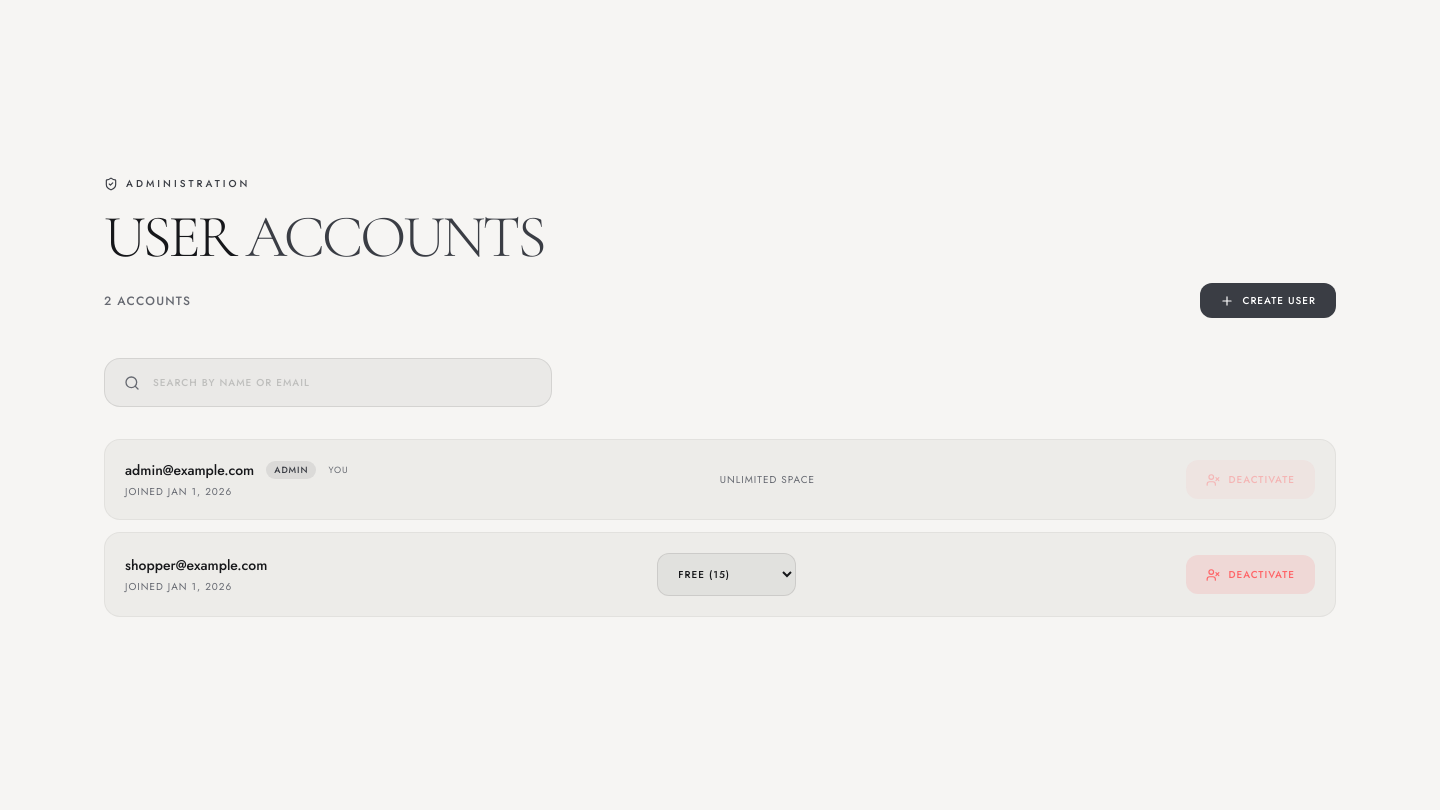
Test: Admin: plans › a failed change is reported and the old plan stays
Select "Premium (300)" in the dropdown named "plan for shopper@example.com" at (727, 574), box [657,553,796,596]
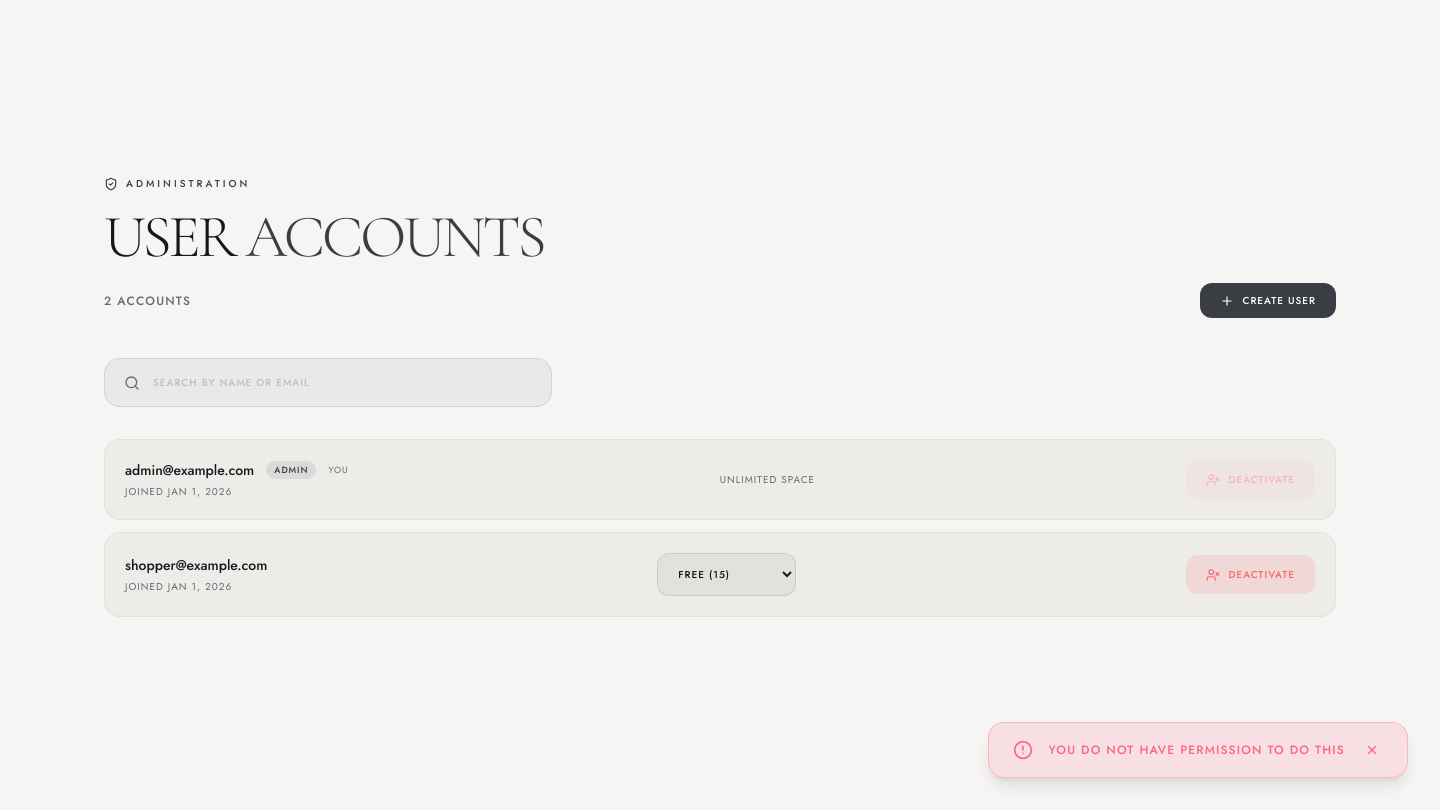
Check: the text "You do not have permission to do this" is shown, box [1048,742,1345,758]
